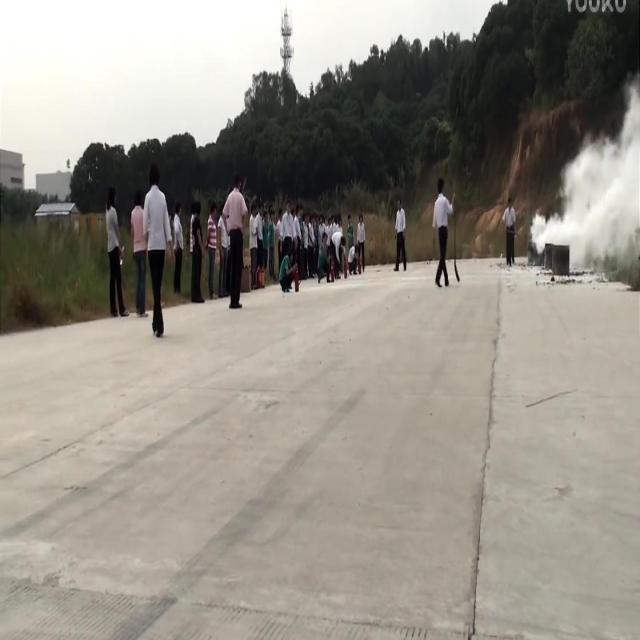Smoke: (529, 71, 640, 276)
